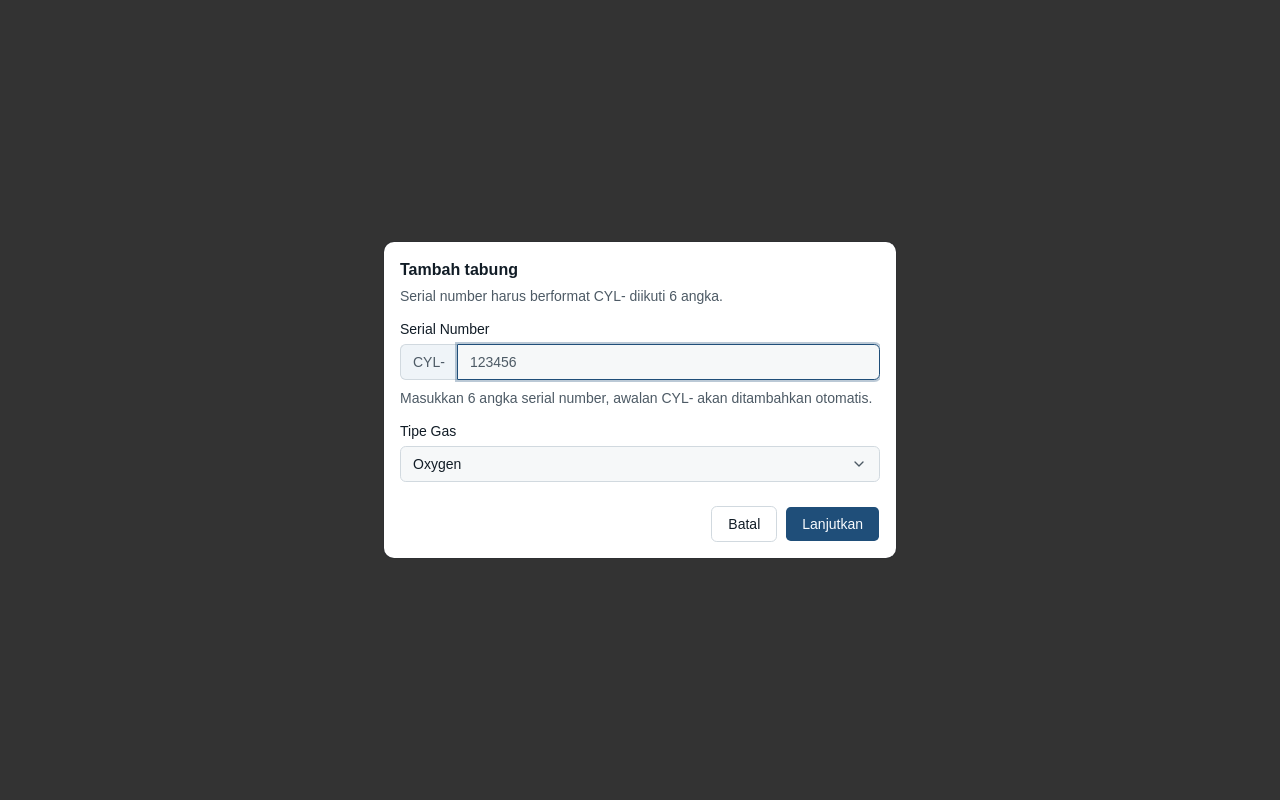
Test: CylinderFormDialog › menampilkan galat zod untuk serial yang tidak valid
Step 1. Type "ABC-1" into the field labelled "Serial Number" → (668, 362), box [457, 344, 880, 380]
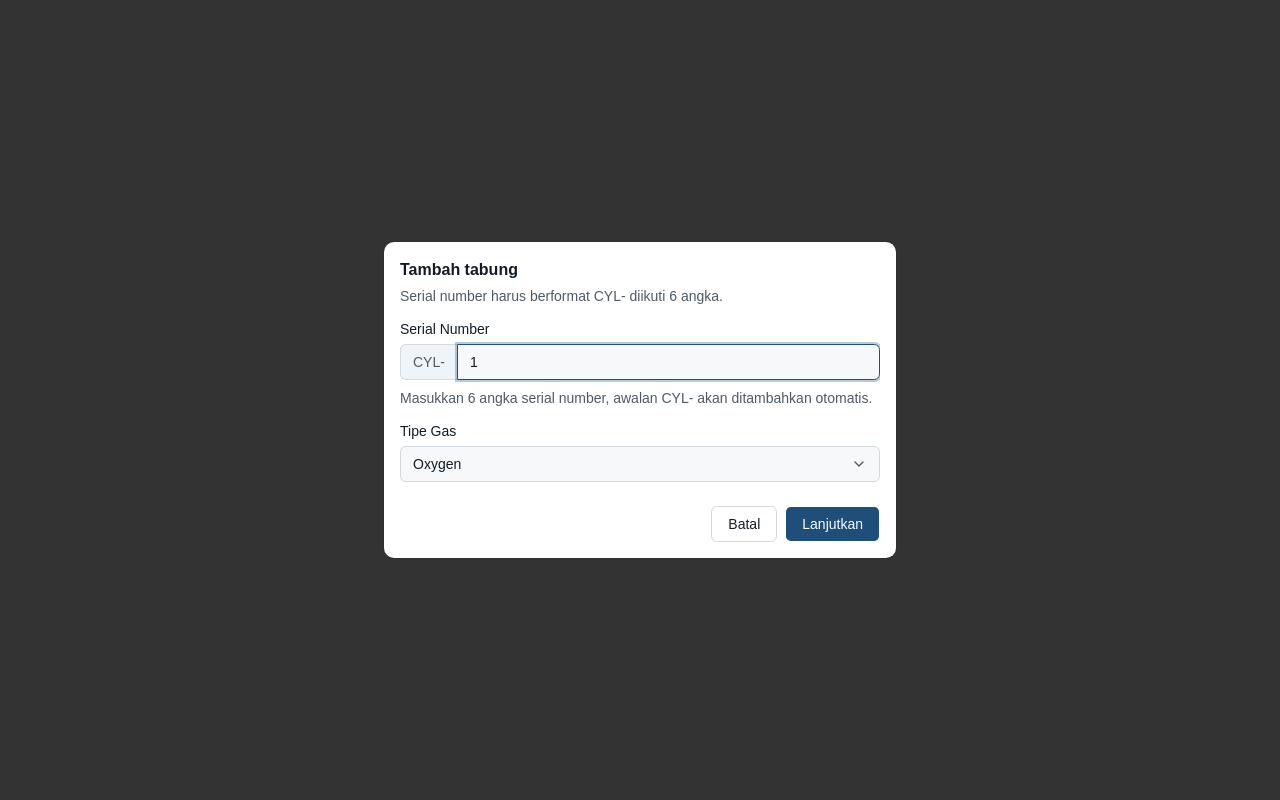
Step 2. Click the button "Lanjutkan" → (833, 524), box [785, 506, 880, 542]
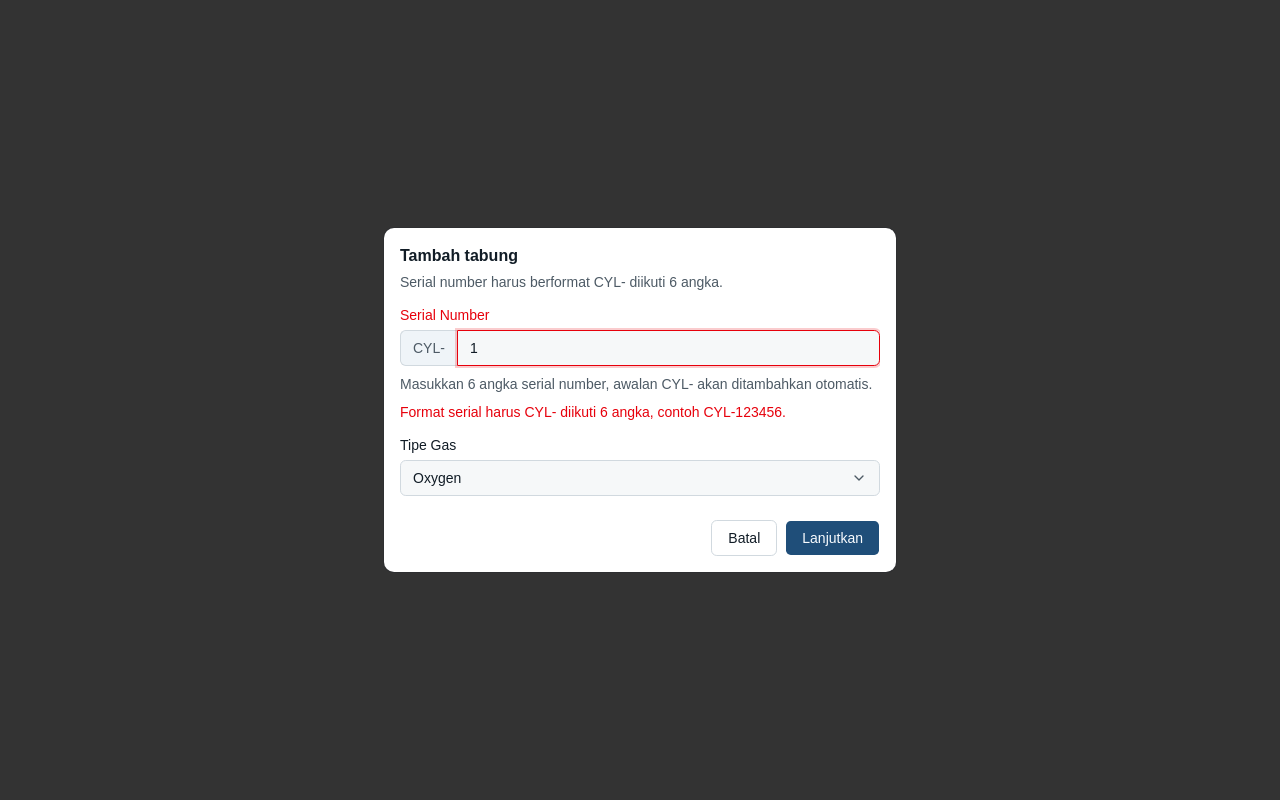
Expected: the text "Format serial harus CYL- diikuti 6 angka, contoh CYL-123456." is shown, [400, 404, 786, 420]
